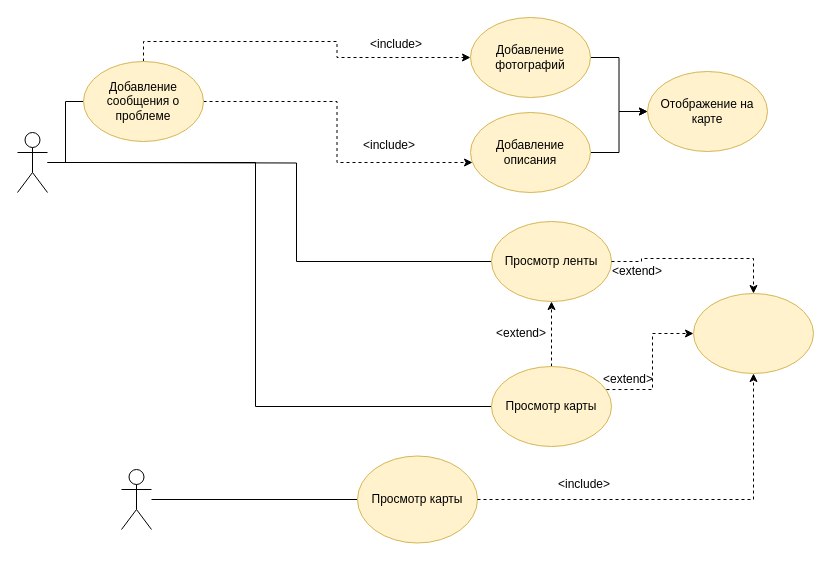
This 831x568 diagram has some shape labels left out. The centre of each missing label's shape, as x and y in pixels:
user: the point at 32,162
ЖКХ: the point at 136,499
Просмотр жалобы: the point at 753,333
